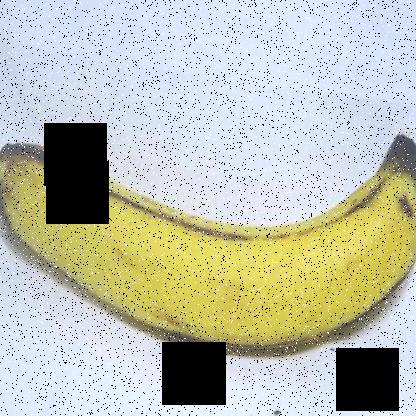ripe: (1, 111, 415, 371)
